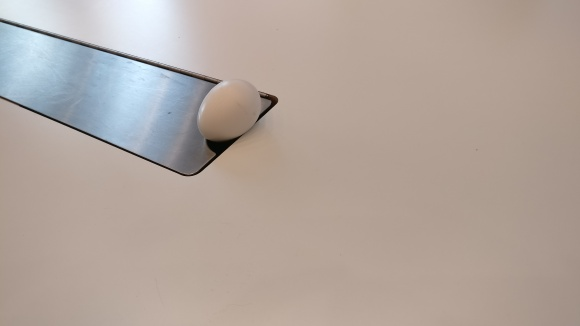egg: (196, 77, 261, 143)
